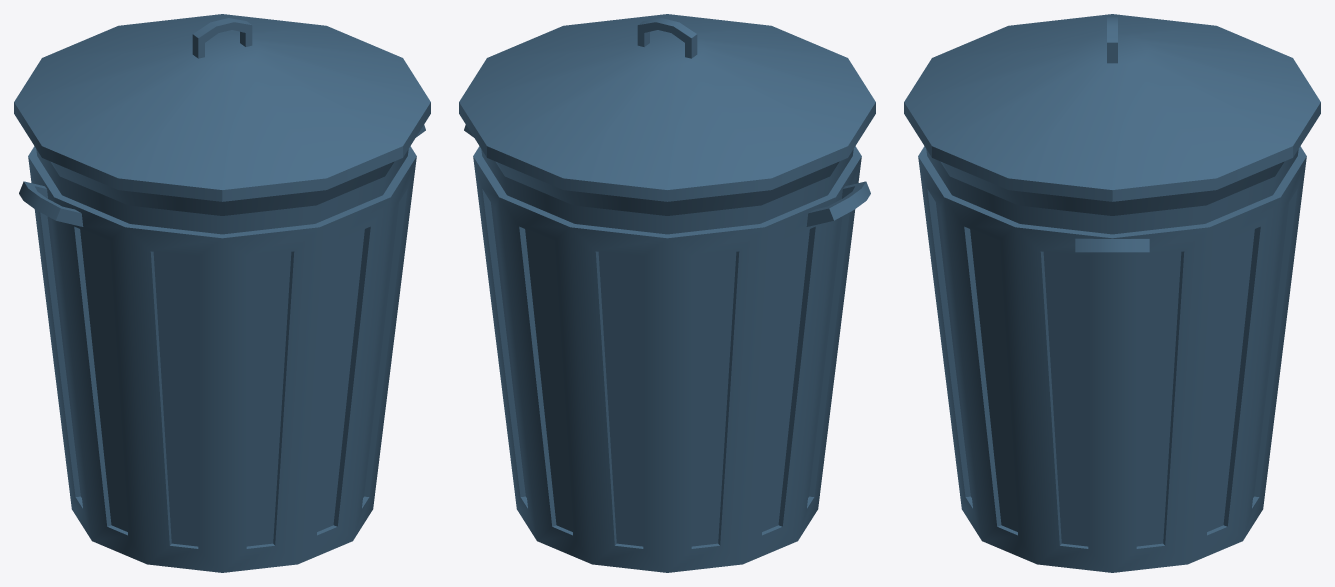
Rendered from garbage-bin.fbx.
The picture shows the model from 3 angles, left to right: view 1: azimuth 30°, elevation 25°; view 2: azimuth 150°, elevation 25°; view 3: azimuth 270°, elevation 25°; orthographic projection.
Parts seen in each view (by area): view 1: 6. garbage-bin, garbage-bin-lid; view 2: 6. garbage-bin, garbage-bin-lid; view 3: 6. garbage-bin, garbage-bin-lid.
Part boxes in pixels (x1,y1,x2,y2): 6. garbage-bin: [19, 124, 425, 572]; garbage-bin-lid: [14, 14, 430, 201]; 6. garbage-bin: [464, 124, 870, 572]; garbage-bin-lid: [459, 14, 875, 201]; 6. garbage-bin: [918, 146, 1306, 572]; garbage-bin-lid: [904, 14, 1320, 201].
Bounding box in the file's own units: 0.7976 × 0.9625 × 0.7466.
